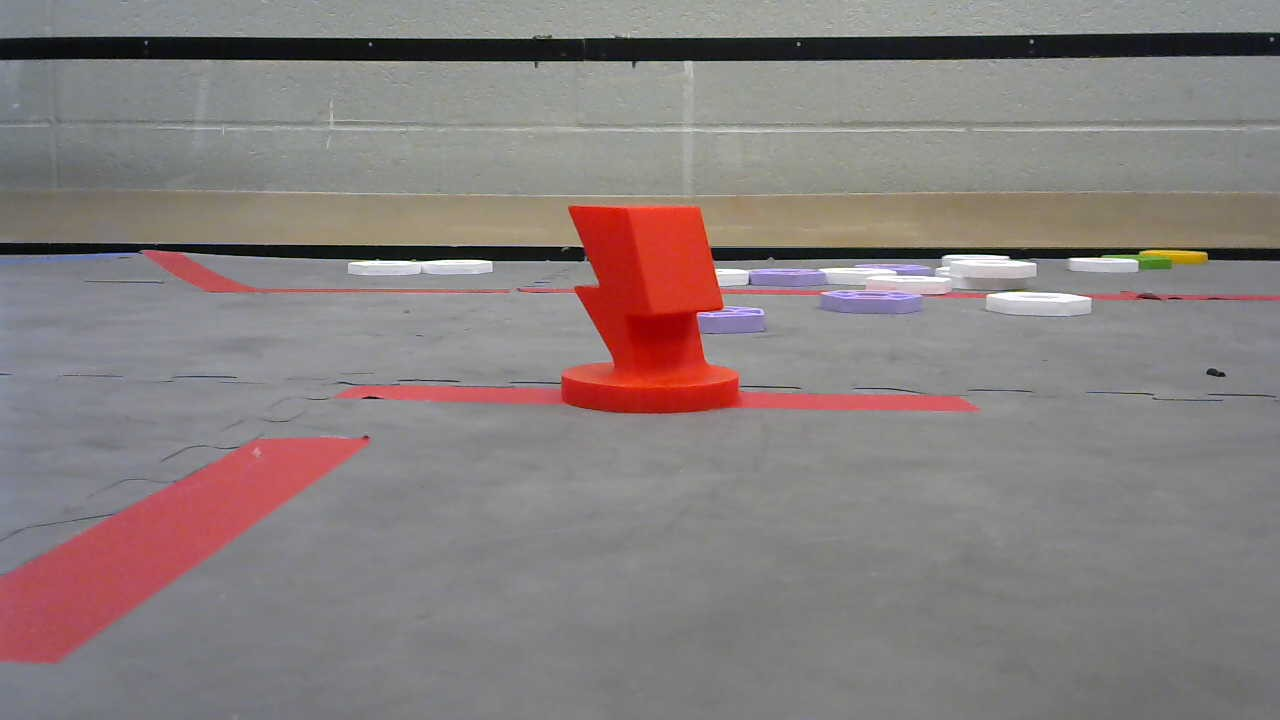redobject: (560, 200, 745, 414)
